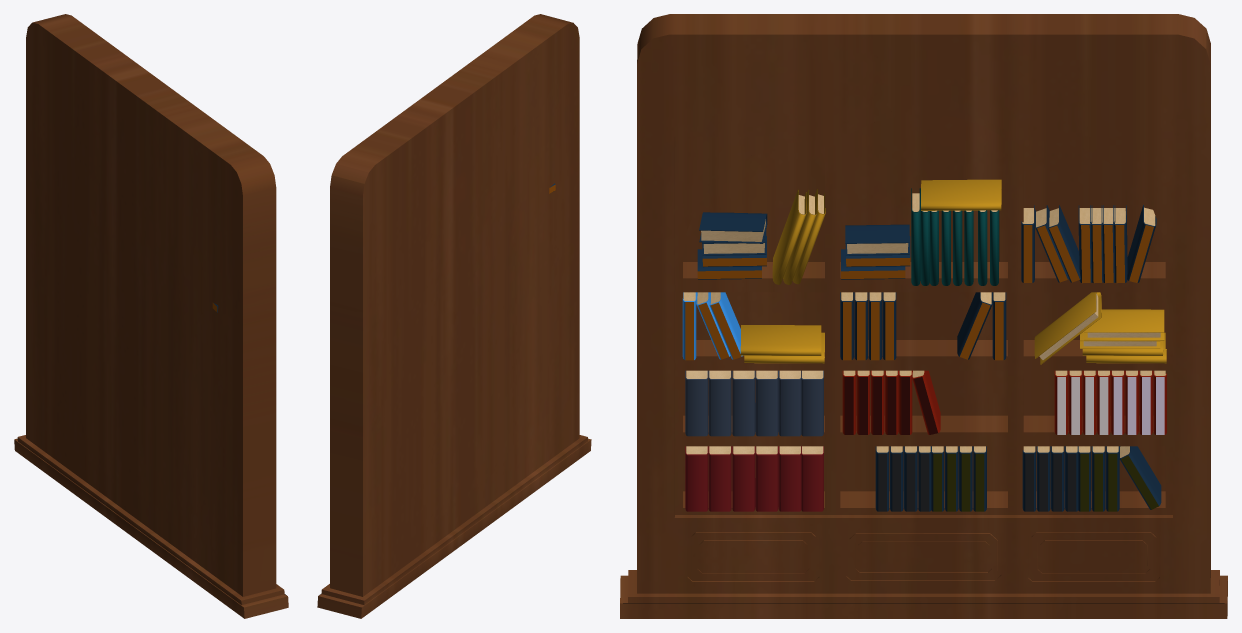
File: bookselfBig.fbx
The picture shows the model from 3 angles, left to right: view 1: azimuth 30°, elevation 25°; view 2: azimuth 150°, elevation 25°; view 3: azimuth 270°, elevation 25°; orthographic projection. The views are drawn at different scales.
Parts seen in each view (by area): view 1: Cube.026; view 2: Cube.026; view 3: Cube.026, Cube.109, Cube.104, Cube.095, Cube.096, Cube.115, Cube.103, Cube.069, Cube.070, Cube.071, Cube.072, Cube.068 (+62 smaller).
Boxes of the visible parts, <box> form: Cube.026: <box>14,14,288,618</box>; Cube.026: <box>317,14,591,618</box>; Cube.026: <box>620,14,1227,618</box>; Cube.109: <box>921,179,1001,210</box>; Cube.104: <box>740,325,821,355</box>; Cube.095: <box>1084,309,1164,340</box>; Cube.096: <box>1034,292,1101,364</box>; Cube.115: <box>699,212,767,243</box>; Cube.103: <box>845,224,909,255</box>; Cube.069: <box>755,370,778,436</box>; Cube.070: <box>732,370,755,436</box>; Cube.071: <box>708,370,731,436</box>; Cube.072: <box>685,370,708,436</box>; Cube.068: <box>778,370,801,436</box>.
Bounding box in the file's own units: 273 × 2558 × 2424.
